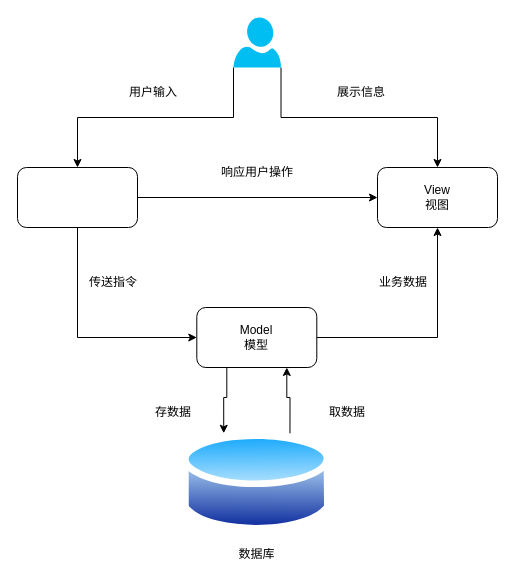
The diagram is 515 pixels wide and 578 high, and some of its shapes have lost their labels. Here are the shapes that lost their labels. From the top down, the centre of each, then its label:
[256,42]: 用户
[77,197]: Template 模板
